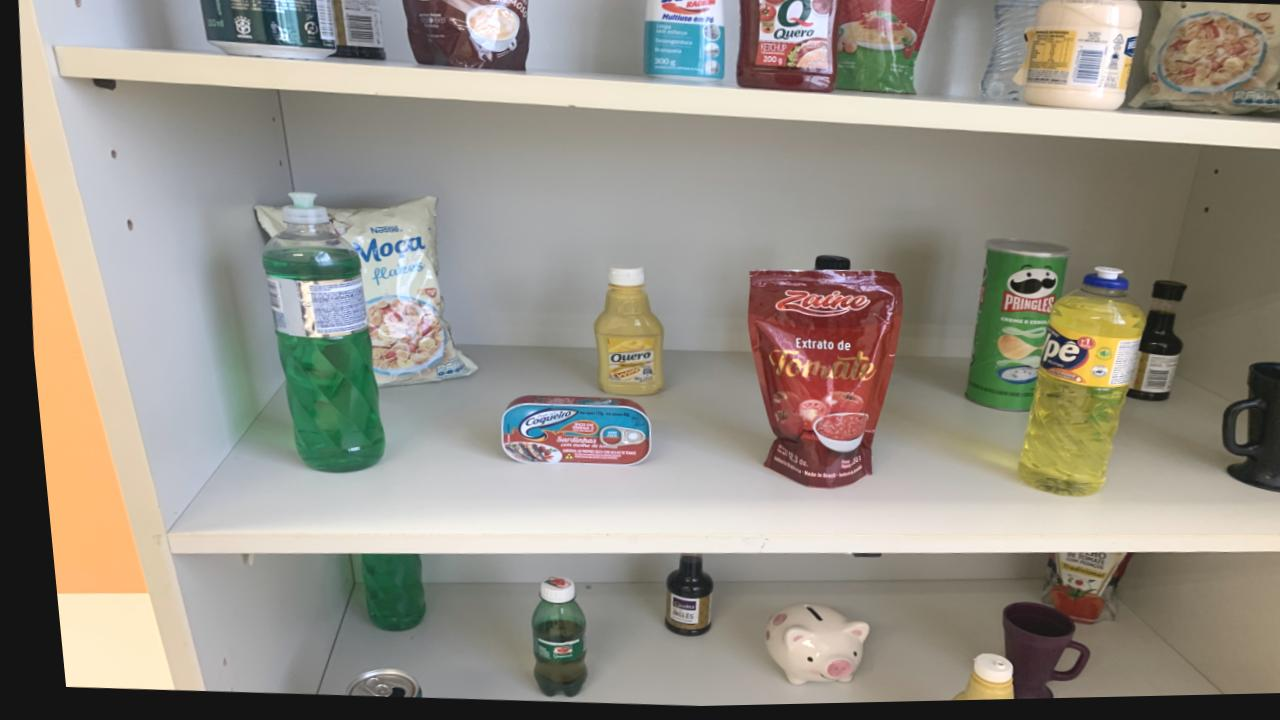Cleaner-Cleanup_Items: (641, 0, 723, 85)
Coffee-Pantry_Items: (401, 0, 529, 74)
Detergent-Cleanup_Items: (257, 193, 376, 474), (1008, 272, 1138, 501), (349, 555, 413, 633)
English_Sauce-Pantry_Items: (1119, 285, 1179, 407), (651, 557, 701, 640), (331, 0, 383, 62)
Flakes-Snacks: (323, 198, 470, 388), (1127, 7, 1280, 120)
Guarana-Drinks: (518, 578, 574, 699)
Guarana_Can-Drinks: (198, 0, 335, 62)
Ketchup-Pantry_Items: (734, 0, 839, 96)
Mayonnaise-Pantry_Items: (1022, 3, 1141, 115)
Mustard-Pantry_Items: (587, 270, 657, 398), (936, 657, 999, 705), (332, 670, 407, 699)
Pig_Safe-Miscellaneous: (752, 607, 857, 688)
Pringles-Snacks: (956, 242, 1063, 415)
Tomato_Sauce-Pantry_Items: (741, 273, 895, 491), (834, 0, 935, 99), (1029, 557, 1121, 629)
Tuna_Can-Pantry_Items: (491, 398, 642, 469)
Water_Bottle-Drinks: (977, 1, 1042, 106)
